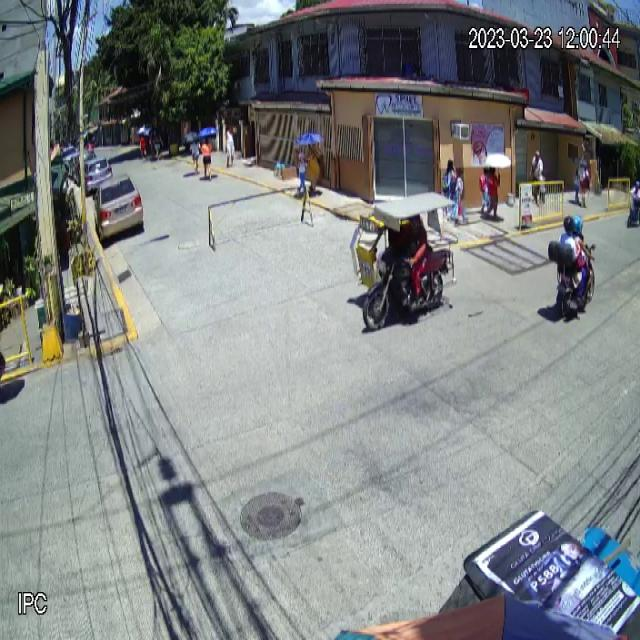Tricycle: (348, 189, 460, 332)
